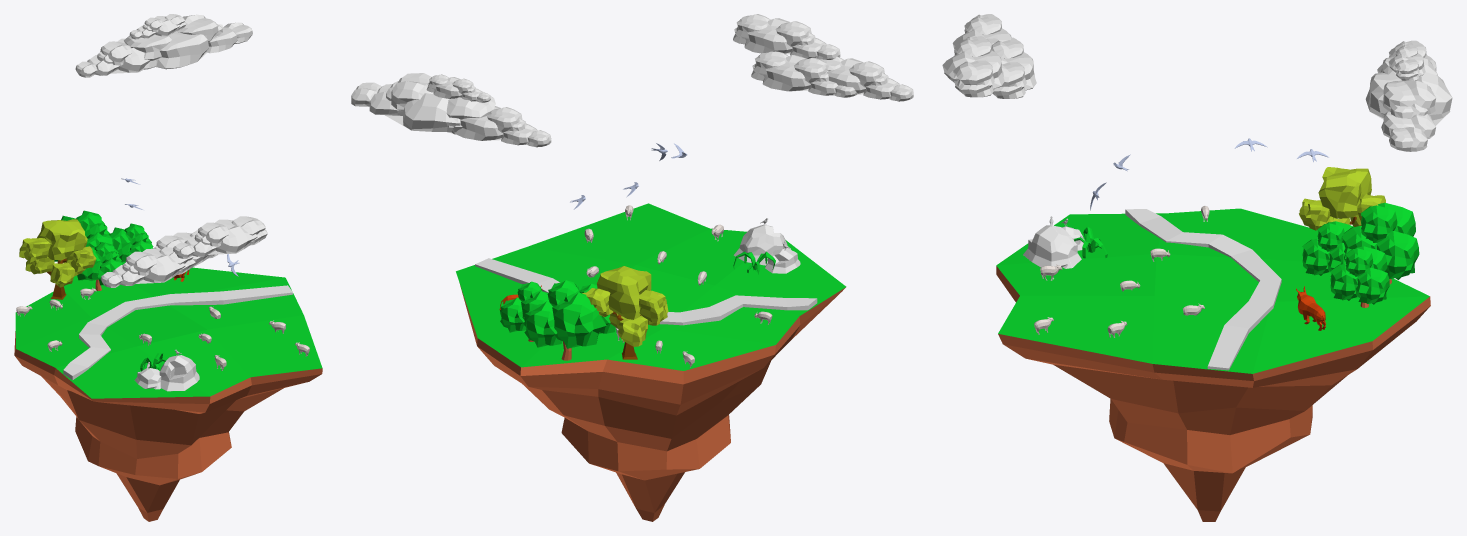
Rendered from lowpoly2016.fbx.
3 renders of one model, left to right at view 1: azimuth 30°, elevation 25°; view 2: azimuth 150°, elevation 25°; view 3: azimuth 270°, elevation 25°, orthographic. The views are drawn at different scales.
Parts seen in each view (by area): view 1: floating_land, jalan_setapak, cloud2, pohon_besar, cloud.004, cloud.002, cloud, batu, Cube.005, pohon2, cloud.001, pohon1 (+2 smaller); view 2: floating_land, cloud2, pohon_besar, pohon1, jalan_setapak, cloud.004, cloud.003, cloud.002, cloud, Cube.005, batu, cloud.001 (+1 smaller); view 3: floating_land, jalan_setapak, cloud2, pohon1, pohon_besar, Cube.005, cloud.004, cloud.003, pohon2, batu, cloud.002, cloud.001 (+1 smaller).
Boxes of the visible parts, x1=… form: floating_land: x1=14, y1=261, x2=322, y2=521; jalan_setapak: x1=63, y1=285, x2=292, y2=380; cloud2: x1=124, y1=14, x2=252, y2=69; pohon_besar: x1=19, y1=219, x2=96, y2=299; cloud.004: x1=173, y1=216, x2=267, y2=258; cloud.002: x1=101, y1=246, x2=195, y2=287; cloud: x1=75, y1=38, x2=150, y2=77; batu: x1=159, y1=355, x2=199, y2=391; Cube.005: x1=109, y1=223, x2=153, y2=262; pohon2: x1=77, y1=242, x2=122, y2=290; cloud.001: x1=129, y1=14, x2=186, y2=39; pohon1: x1=54, y1=210, x2=118, y2=261; floating_land: x1=456, y1=203, x2=846, y2=521; cloud2: x1=351, y1=73, x2=495, y2=134; pohon_besar: x1=582, y1=266, x2=668, y2=359; pohon1: x1=524, y1=280, x2=606, y2=360; jalan_setapak: x1=475, y1=258, x2=817, y2=325; cloud.004: x1=733, y1=14, x2=840, y2=59; cloud.003: x1=751, y1=51, x2=857, y2=97; cloud.002: x1=820, y1=56, x2=913, y2=101; cloud: x1=455, y1=106, x2=551, y2=147; Cube.005: x1=500, y1=281, x2=548, y2=341; batu: x1=733, y1=224, x2=790, y2=265; cloud.001: x1=426, y1=74, x2=490, y2=102; floating_land: x1=996, y1=208, x2=1430, y2=521; jalan_setapak: x1=1125, y1=209, x2=1281, y2=370; cloud2: x1=1365, y1=56, x2=1452, y2=151; pohon1: x1=1342, y1=202, x2=1419, y2=284; pohon_besar: x1=1299, y1=167, x2=1385, y2=230; Cube.005: x1=1330, y1=246, x2=1389, y2=307; cloud.004: x1=942, y1=36, x2=1004, y2=97; cloud.003: x1=991, y1=37, x2=1036, y2=98; pohon2: x1=1302, y1=221, x2=1353, y2=276; batu: x1=1023, y1=225, x2=1081, y2=268; cloud.002: x1=952, y1=14, x2=1011, y2=51; cloud.001: x1=1388, y1=44, x2=1425, y2=80.
Bounding box in the file's own units: 720 × 914 × 809.
